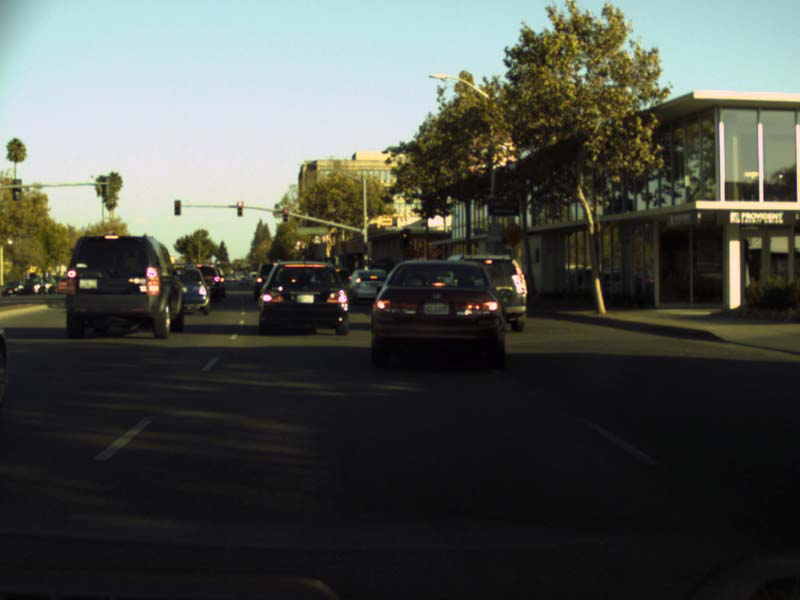Red: (400, 230, 408, 246), (236, 200, 243, 216), (174, 199, 180, 215), (283, 207, 288, 223)
